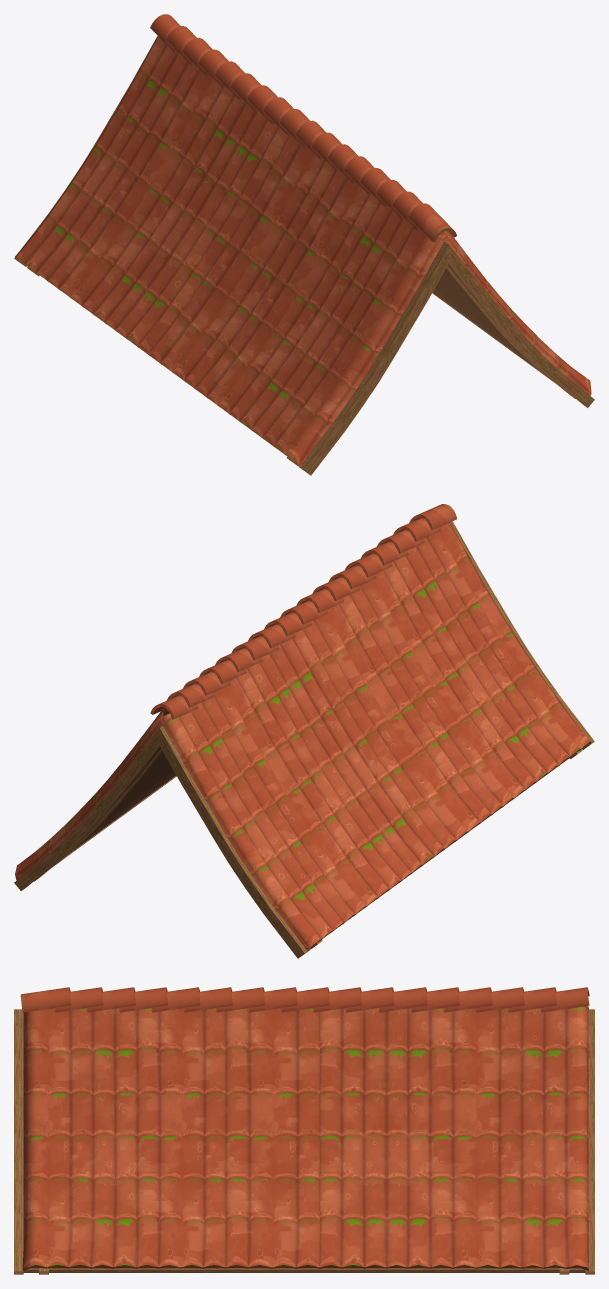
File: roof_roundtiles_6x12.glb
The picture shows the model from 3 angles, top to bottom: view 1: azimuth 30°, elevation 25°; view 2: azimuth 150°, elevation 25°; view 3: azimuth 270°, elevation 25°; orthographic projection.
Bounding box in the file's own units: 8.25 × 5.67 × 13.66.
2 materials, 2 textured.
